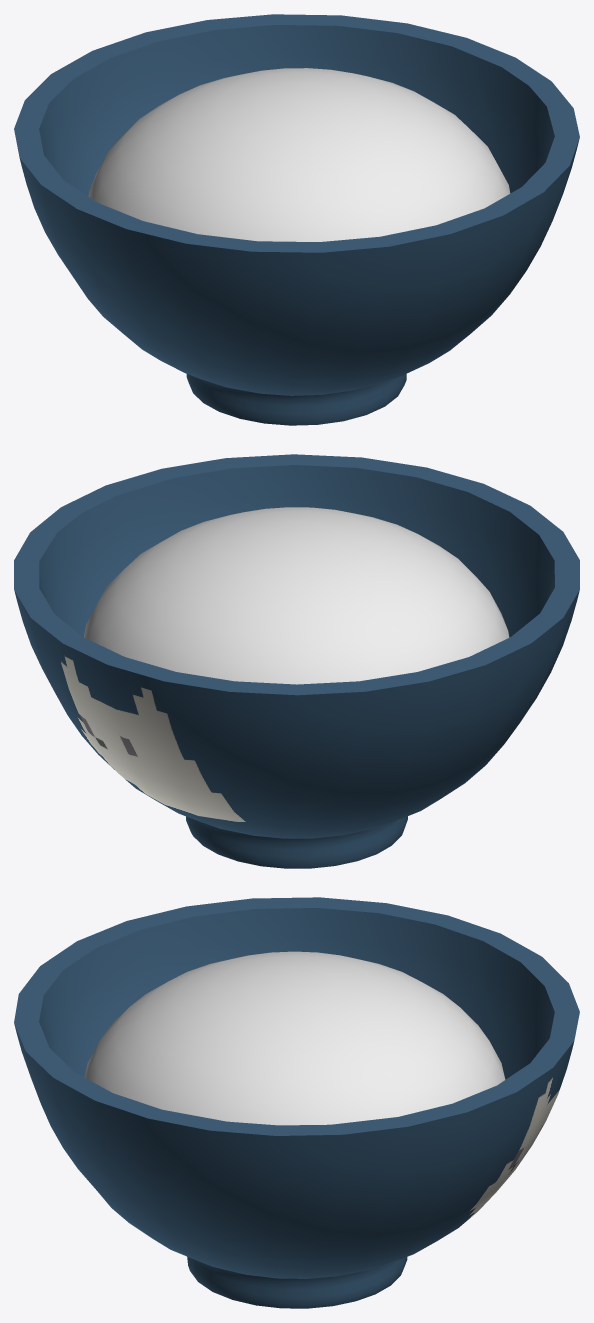
The picture shows the model from 3 angles, top to bottom: view 1: azimuth 30°, elevation 25°; view 2: azimuth 150°, elevation 25°; view 3: azimuth 270°, elevation 25°; orthographic projection.
Parts seen in each view (by area): view 1: bowl_low_1, rice_low_0; view 2: bowl_low_1, rice_low_0; view 3: bowl_low_1, rice_low_0.
Boxes of the visible parts, box(x1,y1,x2,y2) form: bowl_low_1: box(14, 14, 579, 425); rice_low_0: box(88, 68, 510, 241); bowl_low_1: box(14, 454, 579, 868); rice_low_0: box(84, 507, 509, 684); bowl_low_1: box(14, 897, 579, 1308); rice_low_0: box(84, 951, 505, 1125).
Size of the model in its own units: 1.31 by 0.7237 by 1.31.
2 materials, 1 textured.
